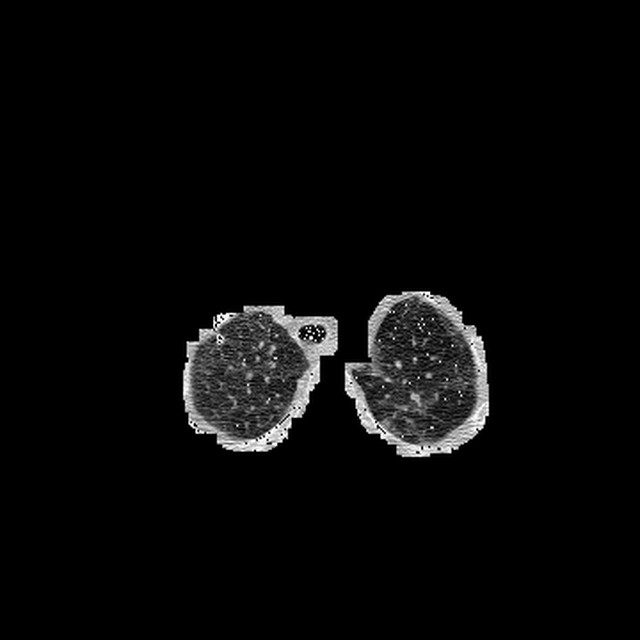PN: (215, 334, 222, 341)
